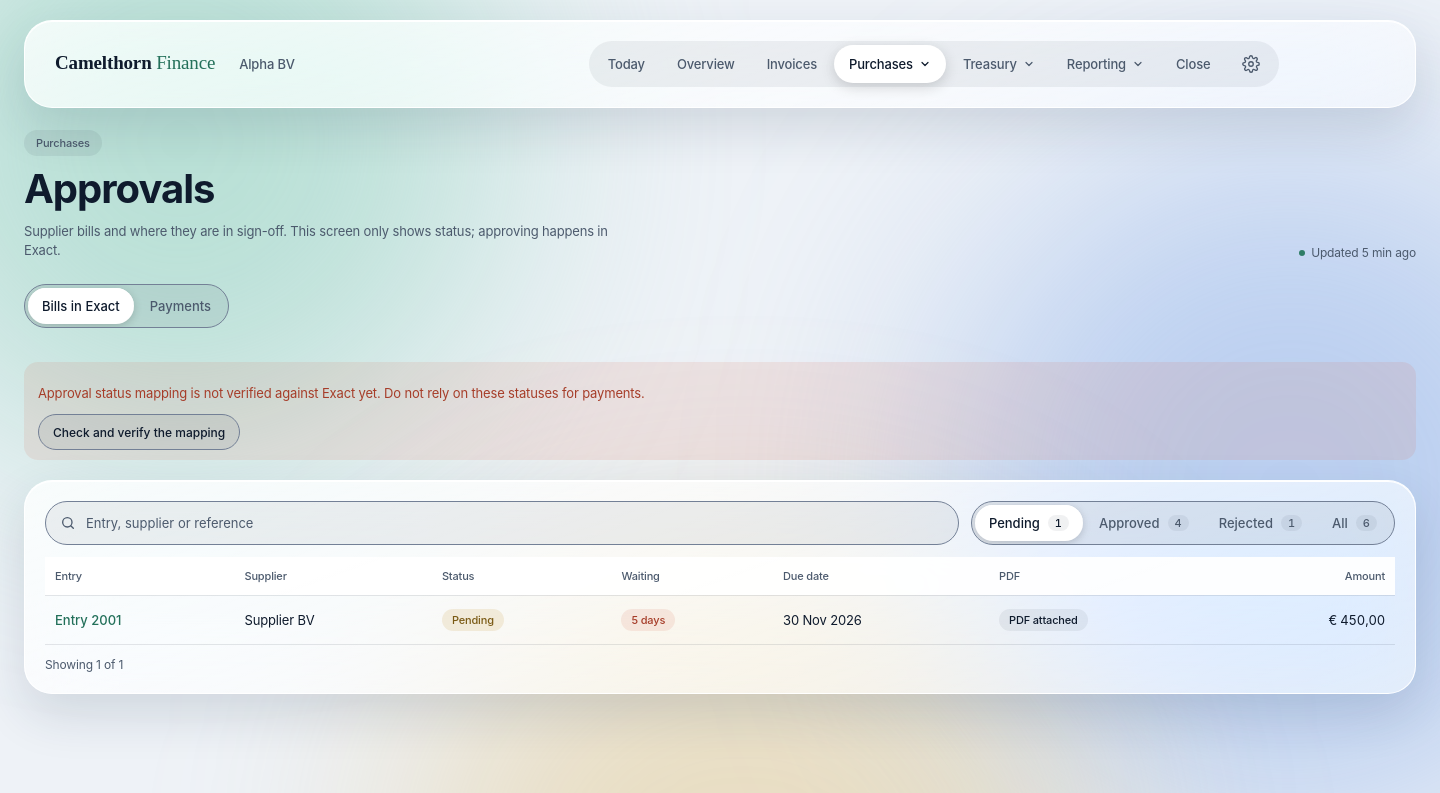
Test case: mapping not verified (review S2) › offers a new sign-in when the server asks for one
This screenshot has width=1440, height=793.
Click the button "Check and verify the mapping".
click(139, 432)  # box [38,414,240,450]
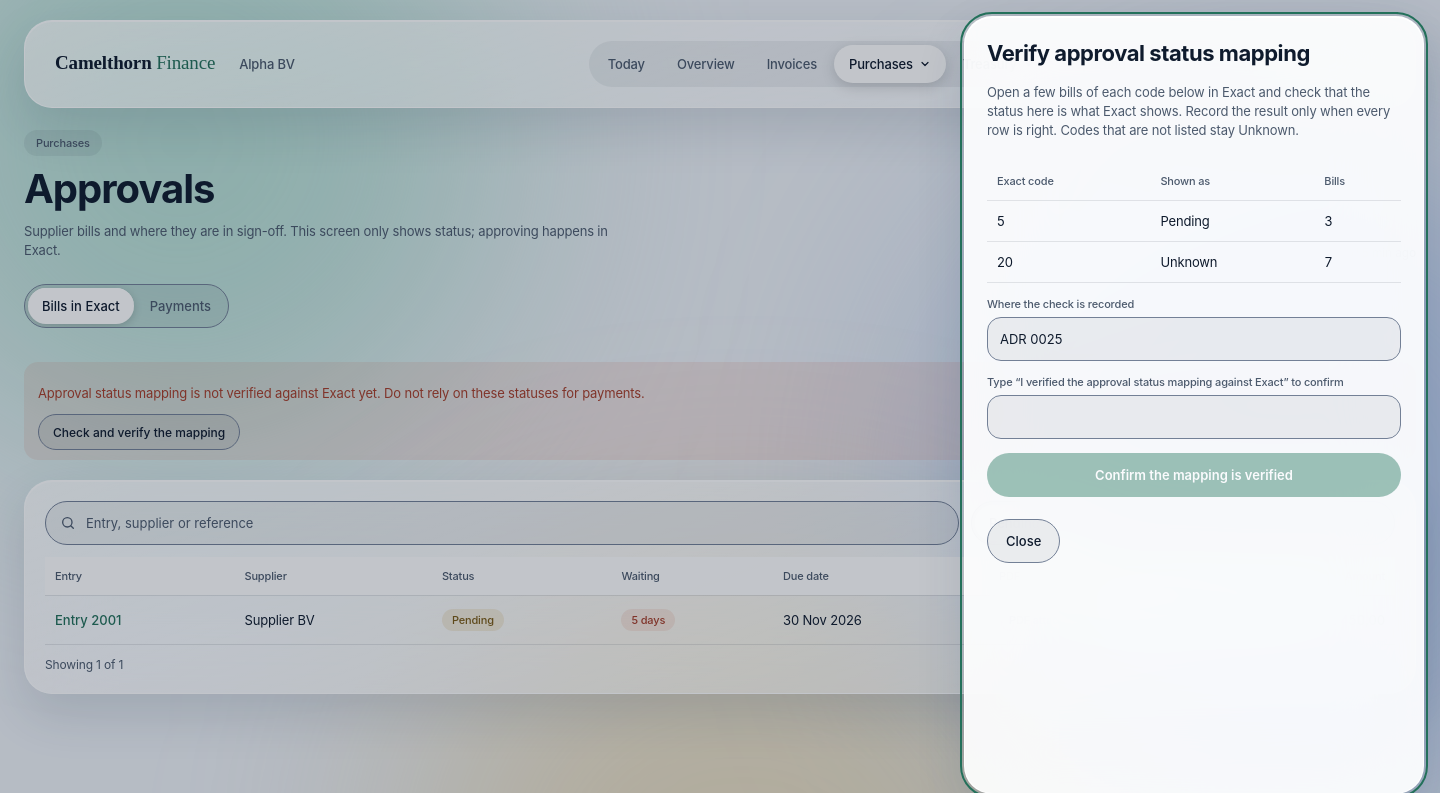
Type "I verified the approval status mapping against Exact" into the field labelled "to confirm".
click(1194, 417); type("I verified the approval status mapping against Exact")  # box [987,395,1401,439]
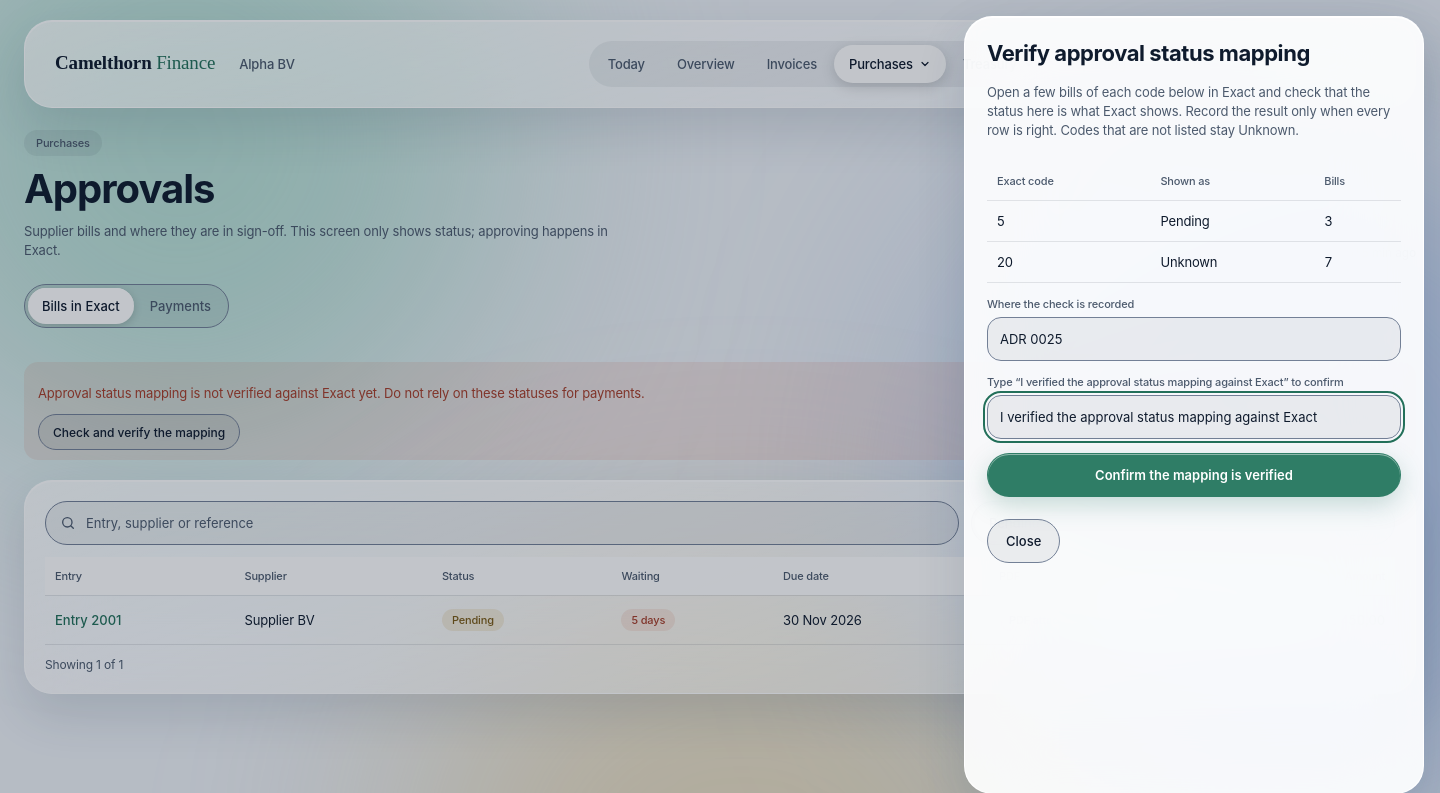
Click the button "Confirm the mapping is verified".
click(1194, 475)  # box [987,453,1401,497]
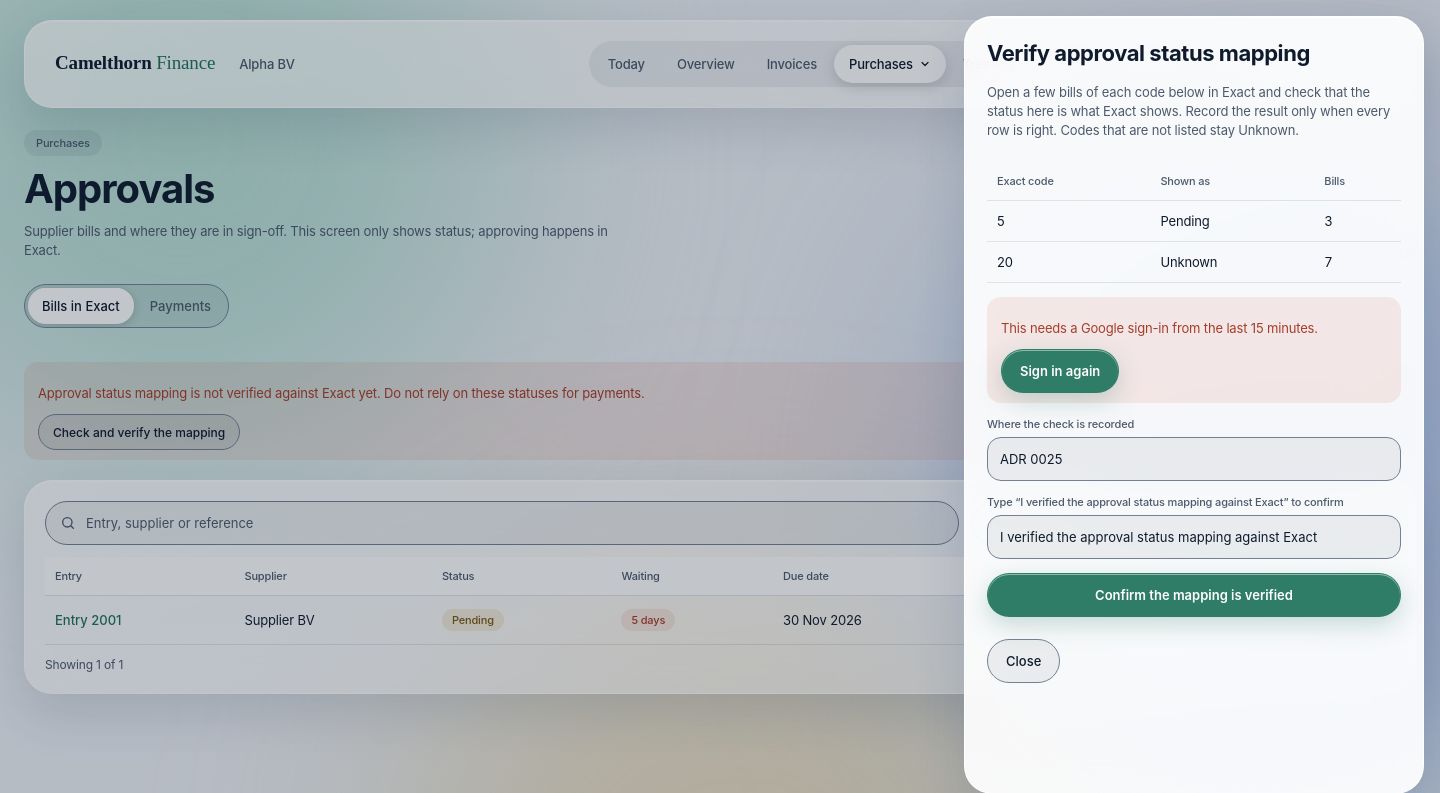
Check: the text "Approval status mapping is not verified against Exact yet. Do not rely on these statuses for payments." is shown, box [38,385,645,401]
Check: the button "Sign in again" is shown, box [1001,349,1119,393]
